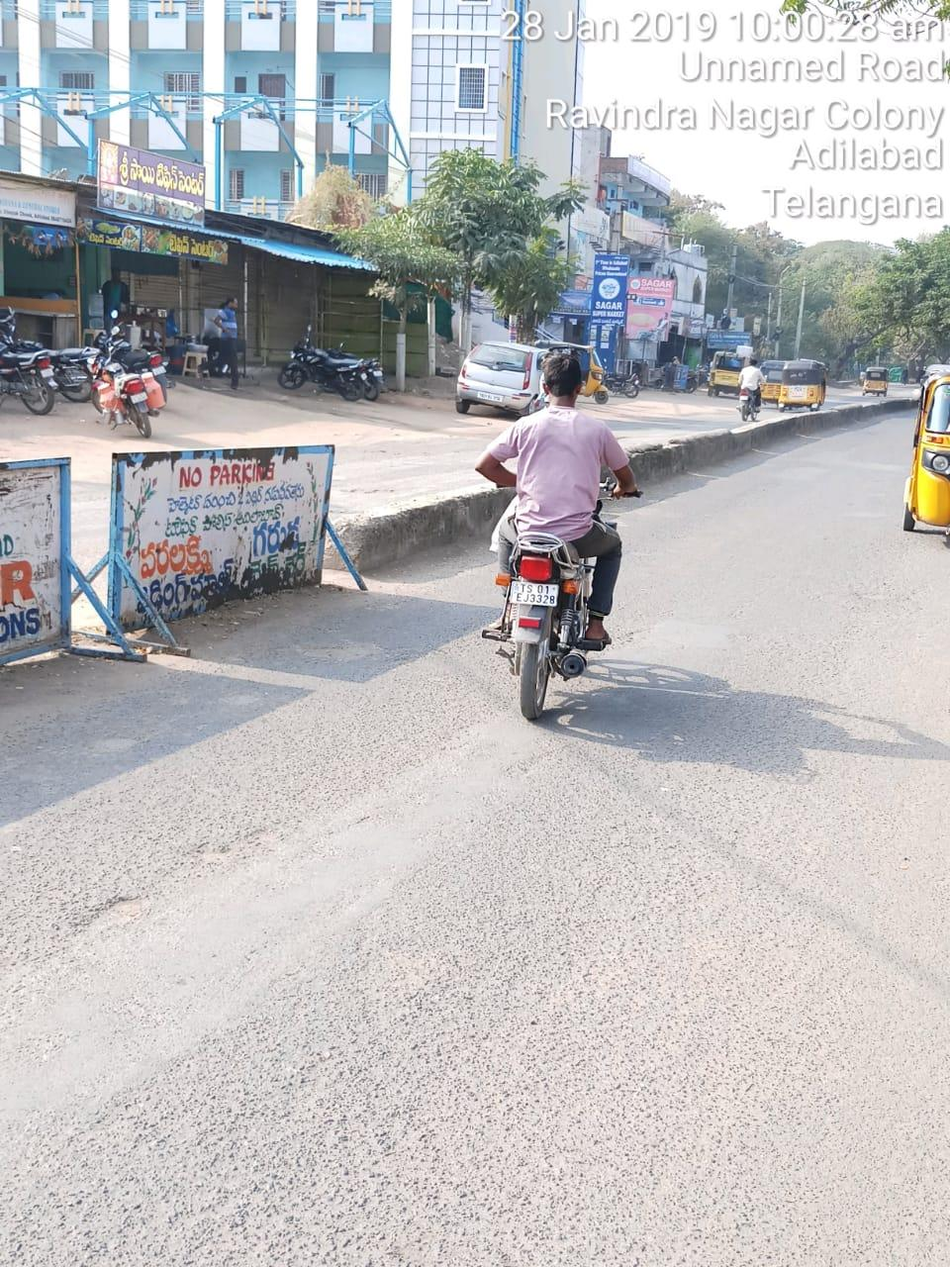plate: (500, 568, 568, 608)
